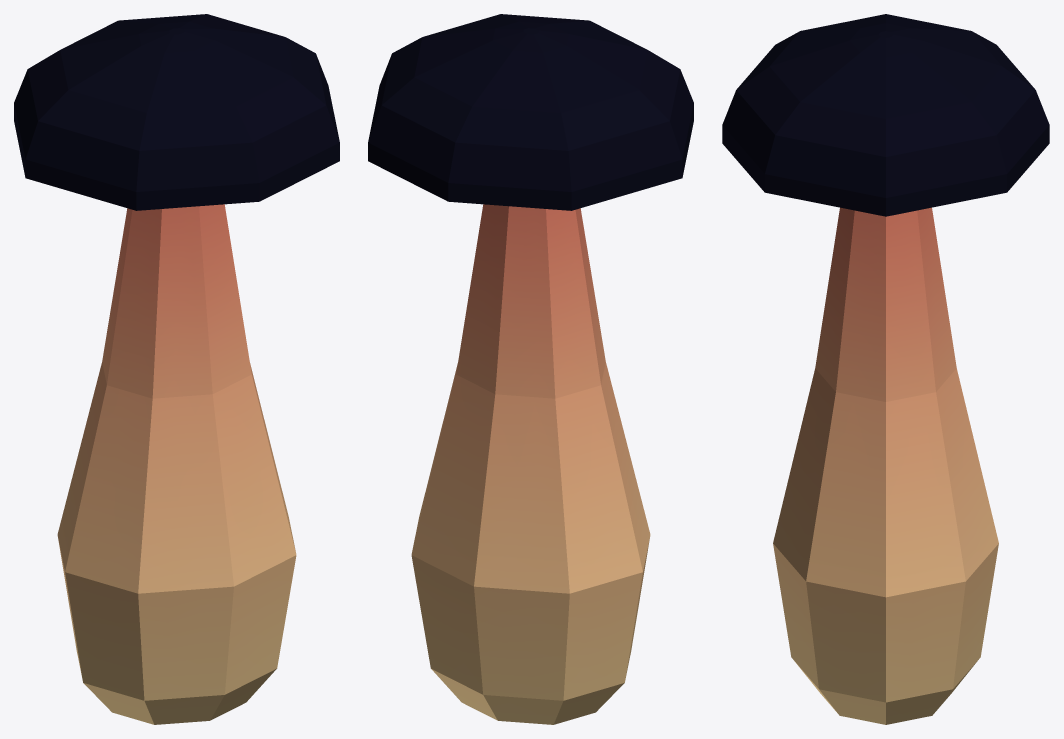
The model's file is Cavern_Mushroom_Toll04.fbx.
The picture shows the model from 3 angles, left to right: view 1: azimuth 30°, elevation 25°; view 2: azimuth 150°, elevation 25°; view 3: azimuth 270°, elevation 25°; orthographic projection.
Parts seen in each view (by area): view 1: Cylinder.212; view 2: Cylinder.212; view 3: Cylinder.212.
Boxes of the visible parts, x1,y1,x2,y2 form: Cylinder.212: (14, 14, 339, 724); Cylinder.212: (368, 14, 693, 724); Cylinder.212: (722, 14, 1049, 724).
Bounding box in the file's own units: 19.05 × 39.98 × 17.99.
